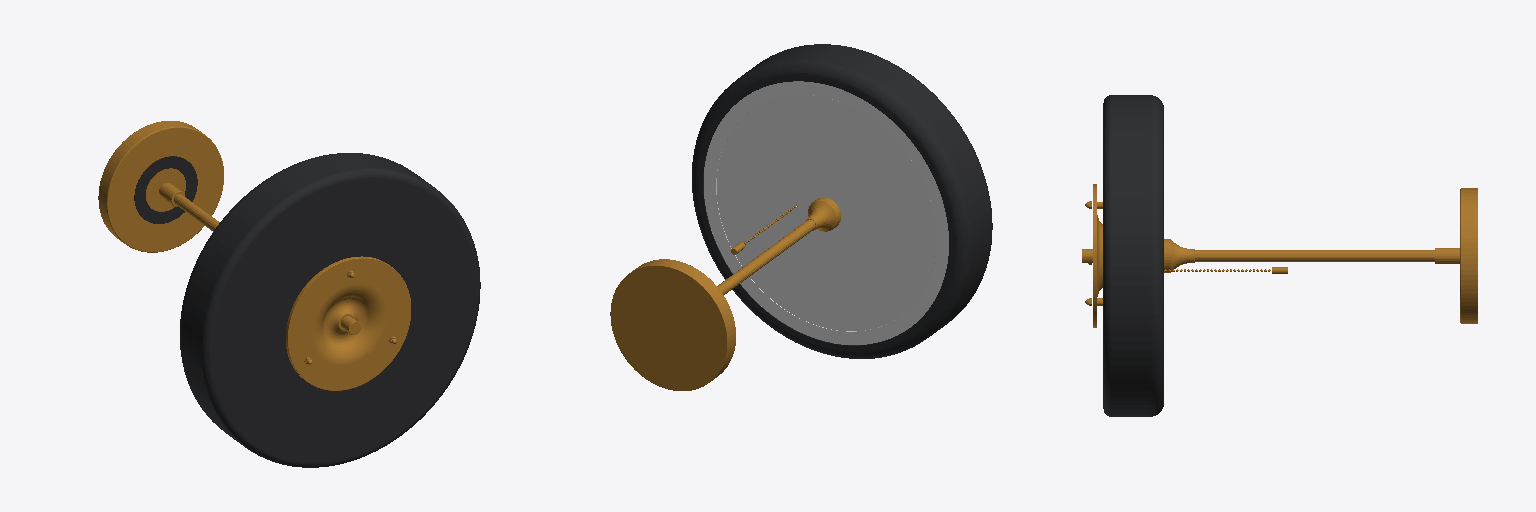
File: Bert_Frank_Revolve_Table_Lamp_mat(2).obj
3 views of the same model, side by side, from view 1: azimuth 30°, elevation 25°; view 2: azimuth 150°, elevation 25°; view 3: azimuth 270°, elevation 25° (orthographic).
Visible parts, largest first — view 1: Bert_Frank_Revolve_Table_Lamp_mat2; view 2: Bert_Frank_Revolve_Table_Lamp_mat2; view 3: Bert_Frank_Revolve_Table_Lamp_mat2.
Boxes of the visible parts, <box> form: Bert_Frank_Revolve_Table_Lamp_mat2: <box>98,121,480,467</box>; Bert_Frank_Revolve_Table_Lamp_mat2: <box>610,44,992,390</box>; Bert_Frank_Revolve_Table_Lamp_mat2: <box>1082,95,1477,416</box>.
Bounding box in the file's own units: 38 × 38 × 46.81.